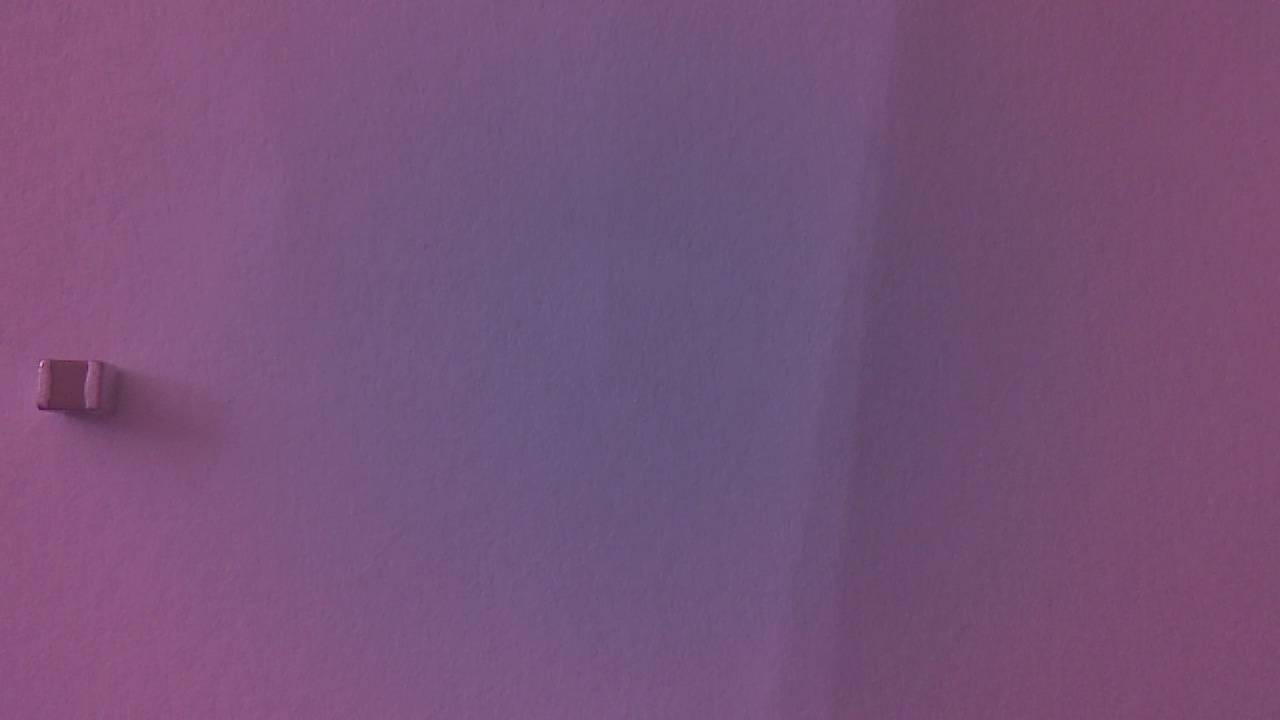Condensator: (36, 355, 128, 431)
